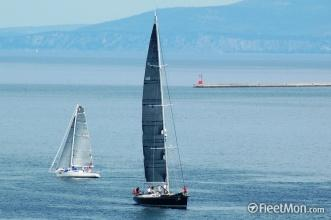fanchuan: (128, 8, 198, 208), (46, 103, 101, 183)
